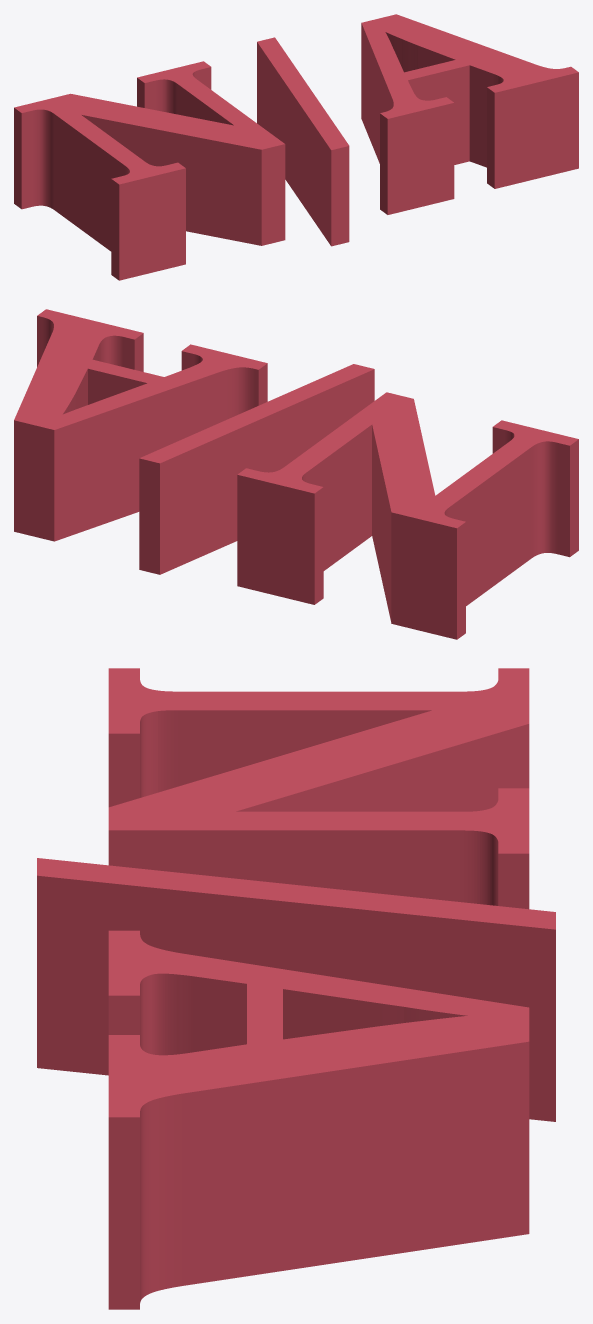
3 views of the same model, one above another, from view 1: azimuth 30°, elevation 25°; view 2: azimuth 150°, elevation 25°; view 3: azimuth 270°, elevation 25° (orthographic). The views are drawn at different scales.
Parts seen in each view (by area): view 1: Mesh_Mesh_head_geo.001_lambert2SG.001; view 2: Mesh_Mesh_head_geo.001_lambert2SG.001; view 3: Mesh_Mesh_head_geo.001_lambert2SG.001.
Part boxes in pixels (x1=…): Mesh_Mesh_head_geo.001_lambert2SG.001: x1=14, y1=14, x2=578, y2=280; Mesh_Mesh_head_geo.001_lambert2SG.001: x1=14, y1=309, x2=578, y2=639; Mesh_Mesh_head_geo.001_lambert2SG.001: x1=37, y1=668, x2=555, y2=1309.
Bounding box in the file's own units: 50.02 × 10 × 24.46.
